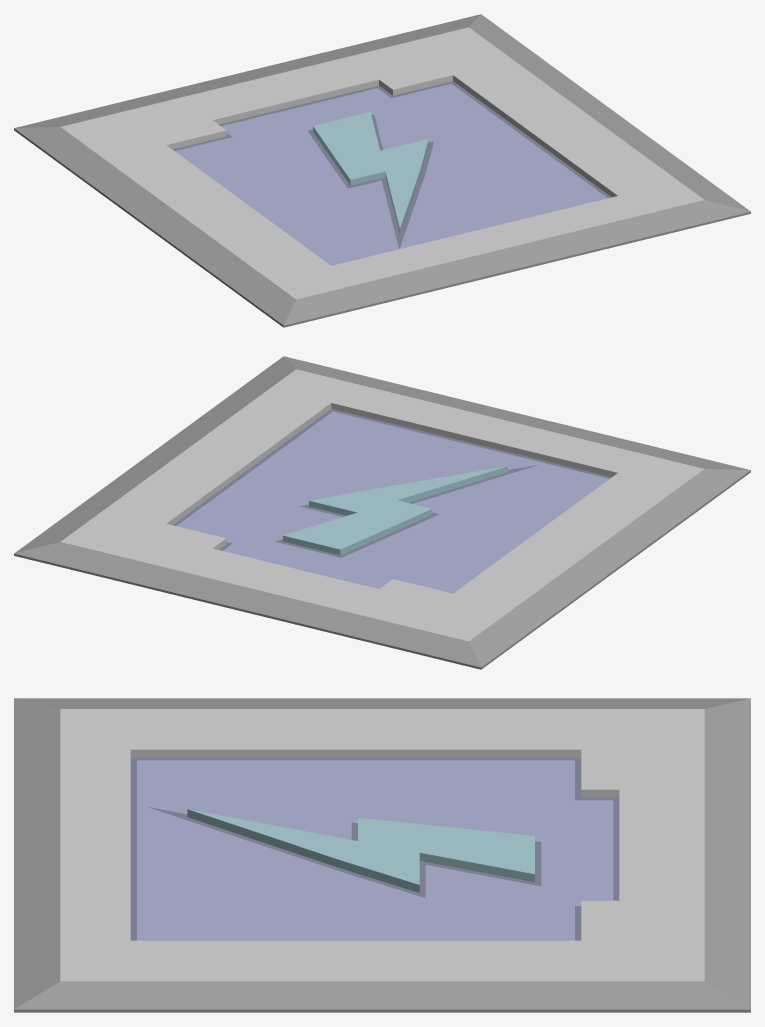
File: charge_station.fbx
3 views of the same model, one above another, from view 1: azimuth 30°, elevation 25°; view 2: azimuth 150°, elevation 25°; view 3: azimuth 270°, elevation 25° (orthographic). The views are drawn at different scales.
Visible parts, largest first — view 1: Cube; view 2: Cube; view 3: Cube.
Boxes of the visible parts, box(x1,y1,x2,y2) form: Cube: box(14, 14, 750, 327); Cube: box(14, 356, 750, 669); Cube: box(14, 698, 750, 1012).
Size of the model in its own units: 90.4 by 1.61 by 90.4.
